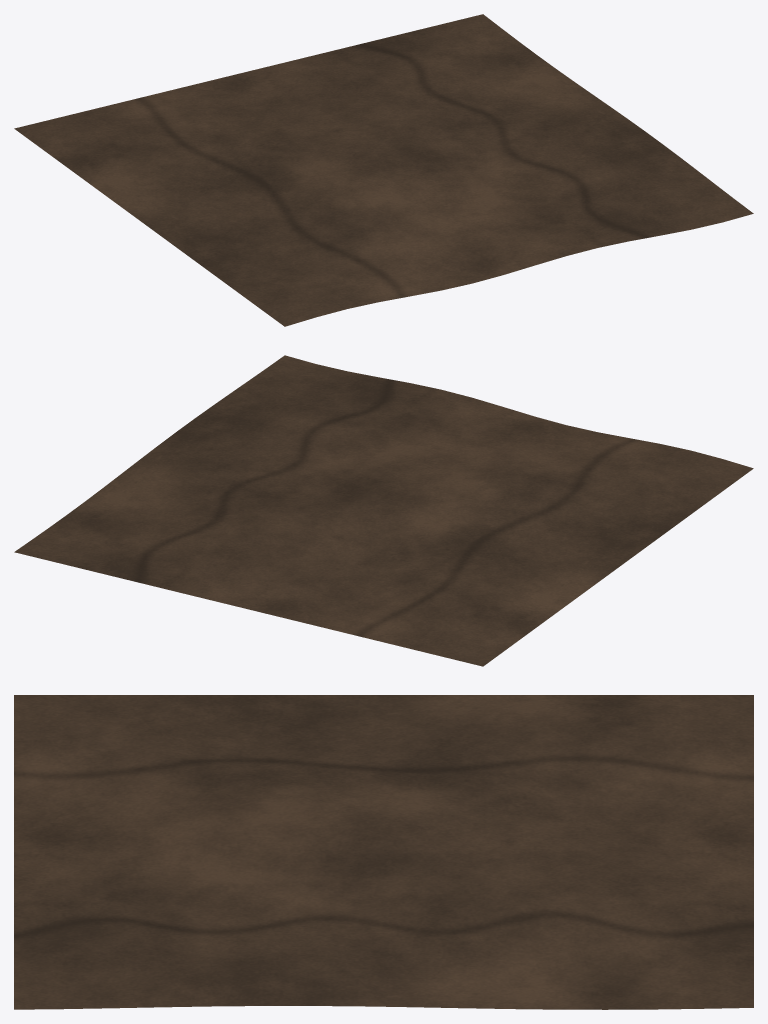
Rendered from HILL_MuddyRoadPatch_2p2m.obj.
3 renders of one model, top to bottom at view 1: azimuth 30°, elevation 25°; view 2: azimuth 150°, elevation 25°; view 3: azimuth 270°, elevation 25°, orthographic. The views are drawn at different scales.
Visible parts, largest first — view 1: HILL_MuddyRoadPatch_2p2m; view 2: HILL_MuddyRoadPatch_2p2m; view 3: HILL_MuddyRoadPatch_2p2m.
Part boxes in pixels (bbox=[...]): HILL_MuddyRoadPatch_2p2m: bbox=[14, 14, 753, 326]; HILL_MuddyRoadPatch_2p2m: bbox=[14, 355, 753, 666]; HILL_MuddyRoadPatch_2p2m: bbox=[14, 695, 753, 1009].
Bounding box in the file's own units: 2.2 × 0.0607 × 2.2.
Materials: 1 (1 with a texture image).
